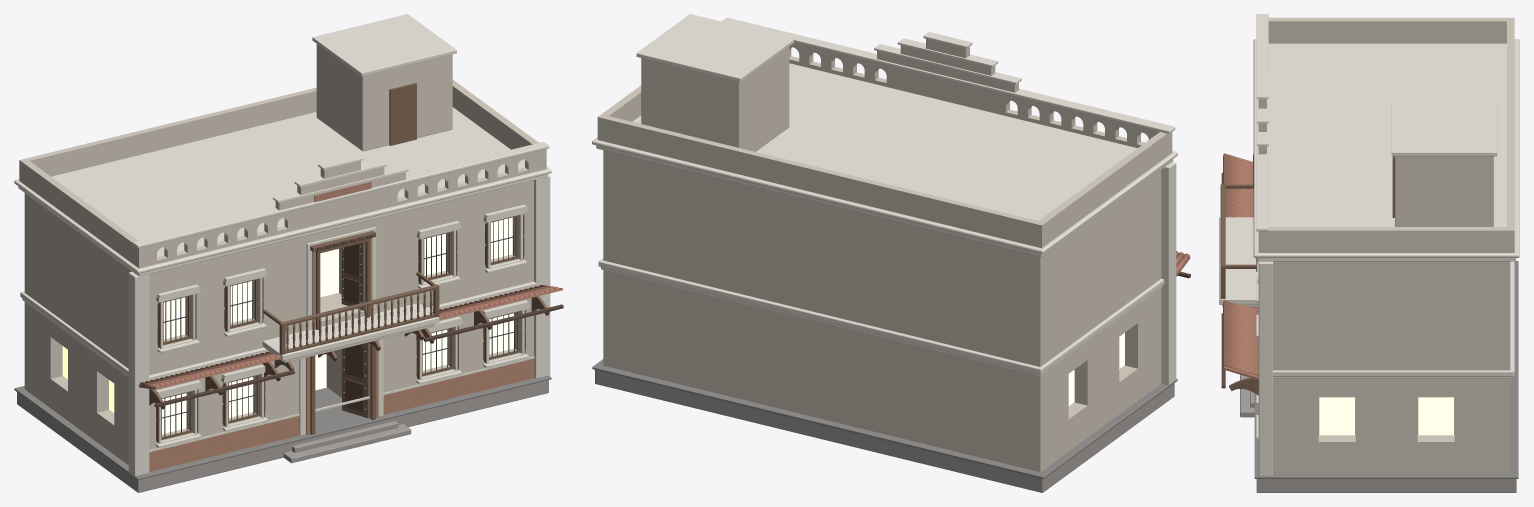
Rendered from house.glb.
The picture shows the model from 3 angles, left to right: view 1: azimuth 30°, elevation 25°; view 2: azimuth 150°, elevation 25°; view 3: azimuth 270°, elevation 25°; orthographic projection. The views are drawn at different scales.
Parts seen in each view (by area): view 1: BalconyUnder, BalconySlab, DoorFrame, Plinth, Glow_balcony, Dado, PlinthCap, ChajjaEdge, Balusters, ChajjaL, Window_2.9_1.25; view 2: BalconyUnder, BalconySlab, Plinth, PlinthCap; view 3: BalconyUnder, BalconySlab, ChajjaL, Plinth, PlinthCap, Glow_balcony, DoorFrame.
Boxes of the visible parts, x1,y1,x2,y2 form: BalconyUnder: (19, 44, 546, 464); BalconySlab: (14, 14, 551, 476); DoorFrame: (156, 83, 525, 442); Plinth: (17, 380, 548, 492); Glow_balcony: (62, 217, 513, 434); Dado: (149, 181, 534, 471); PlinthCap: (14, 376, 551, 480); ChajjaEdge: (154, 215, 563, 439); Balusters: (149, 290, 549, 409); ChajjaL: (139, 285, 562, 389); Window_2.9_1.25: (162, 217, 517, 436); BalconyUnder: (597, 39, 1172, 472); BalconySlab: (592, 14, 1177, 385); Plinth: (595, 370, 1174, 492); PlinthCap: (592, 359, 1177, 478); BalconyUnder: (1222, 17, 1514, 473); BalconySlab: (1219, 14, 1519, 476); ChajjaL: (1223, 153, 1258, 379); Plinth: (1240, 374, 1516, 492); PlinthCap: (1254, 261, 1518, 478); Glow_balcony: (1319, 397, 1453, 435); DoorFrame: (1220, 156, 1394, 298).
Size of the model in its own units: 12.44 by 8.7 by 7.27.
